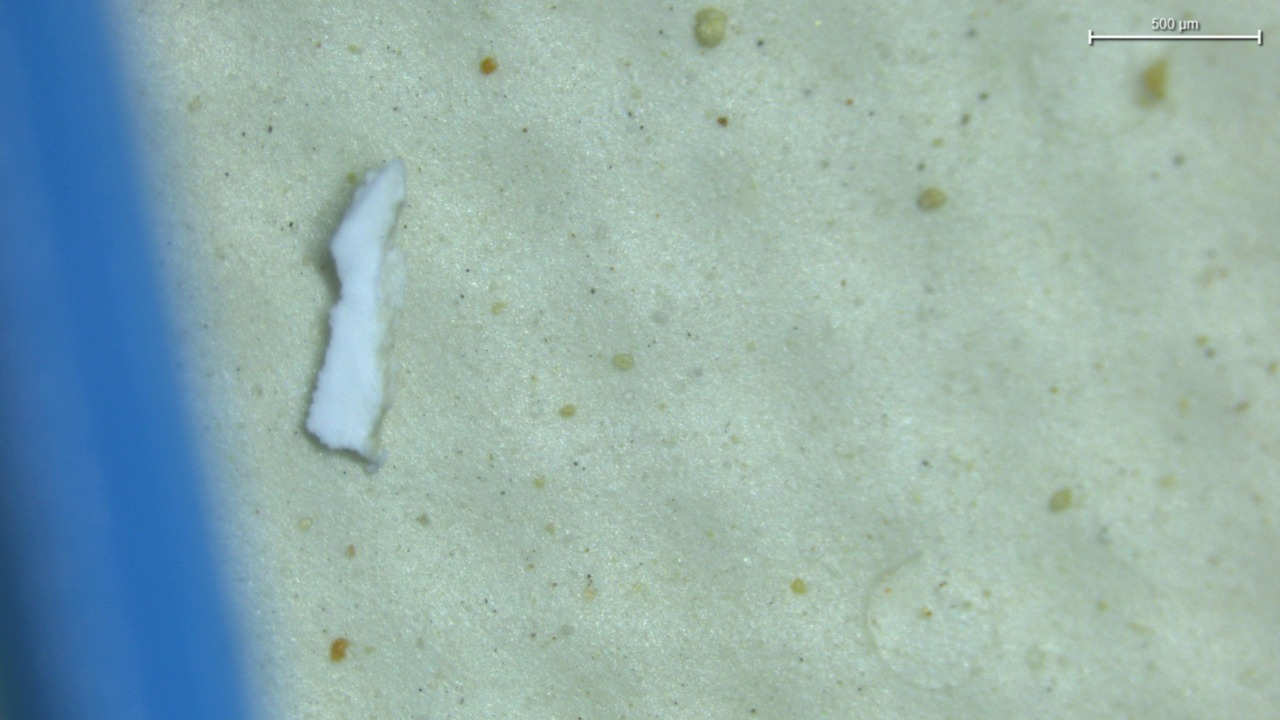microplastic_fragment: (306, 160, 405, 461)
